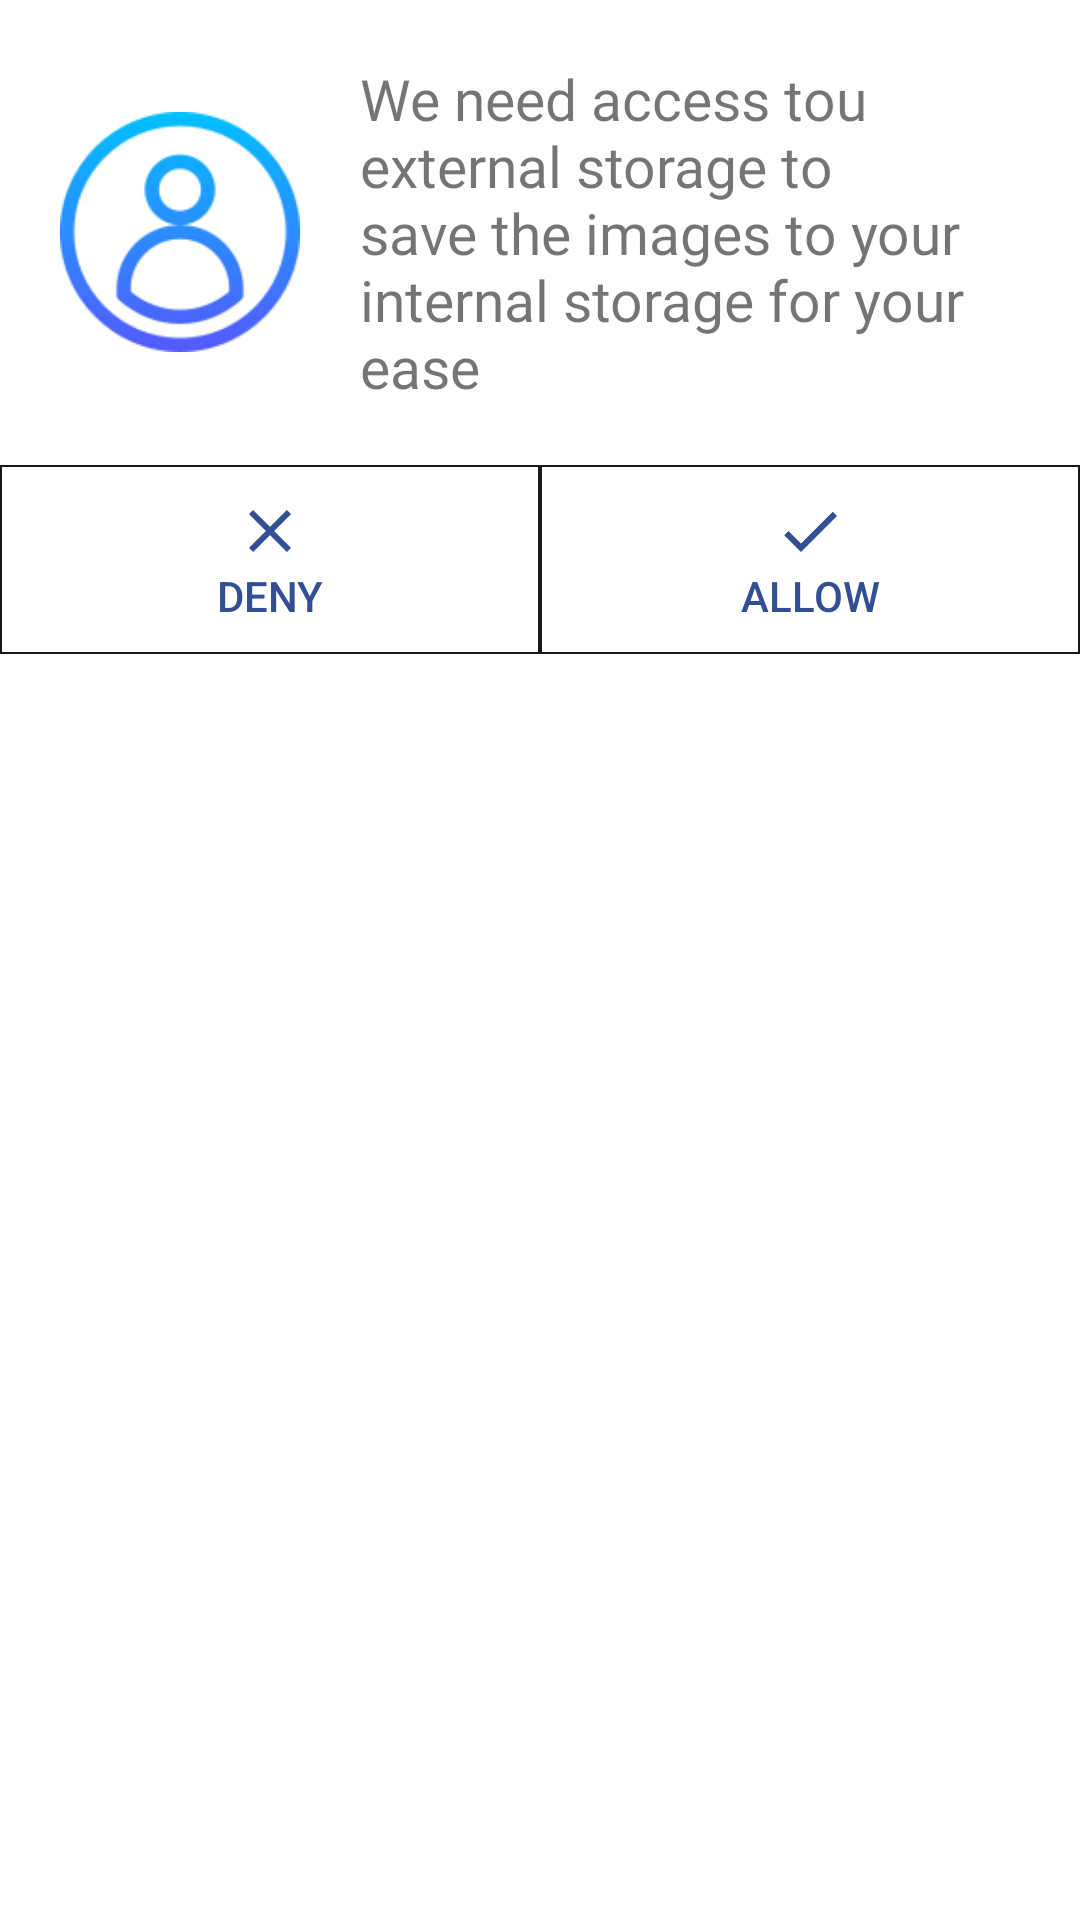

Screen size 1080*1920. Icon name, then its box in pixels as (x1, y1, x2, y2):
user: (60, 112, 300, 352)
